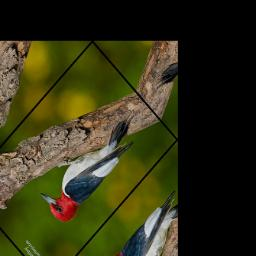Woodpecker: (32, 92, 151, 229)
